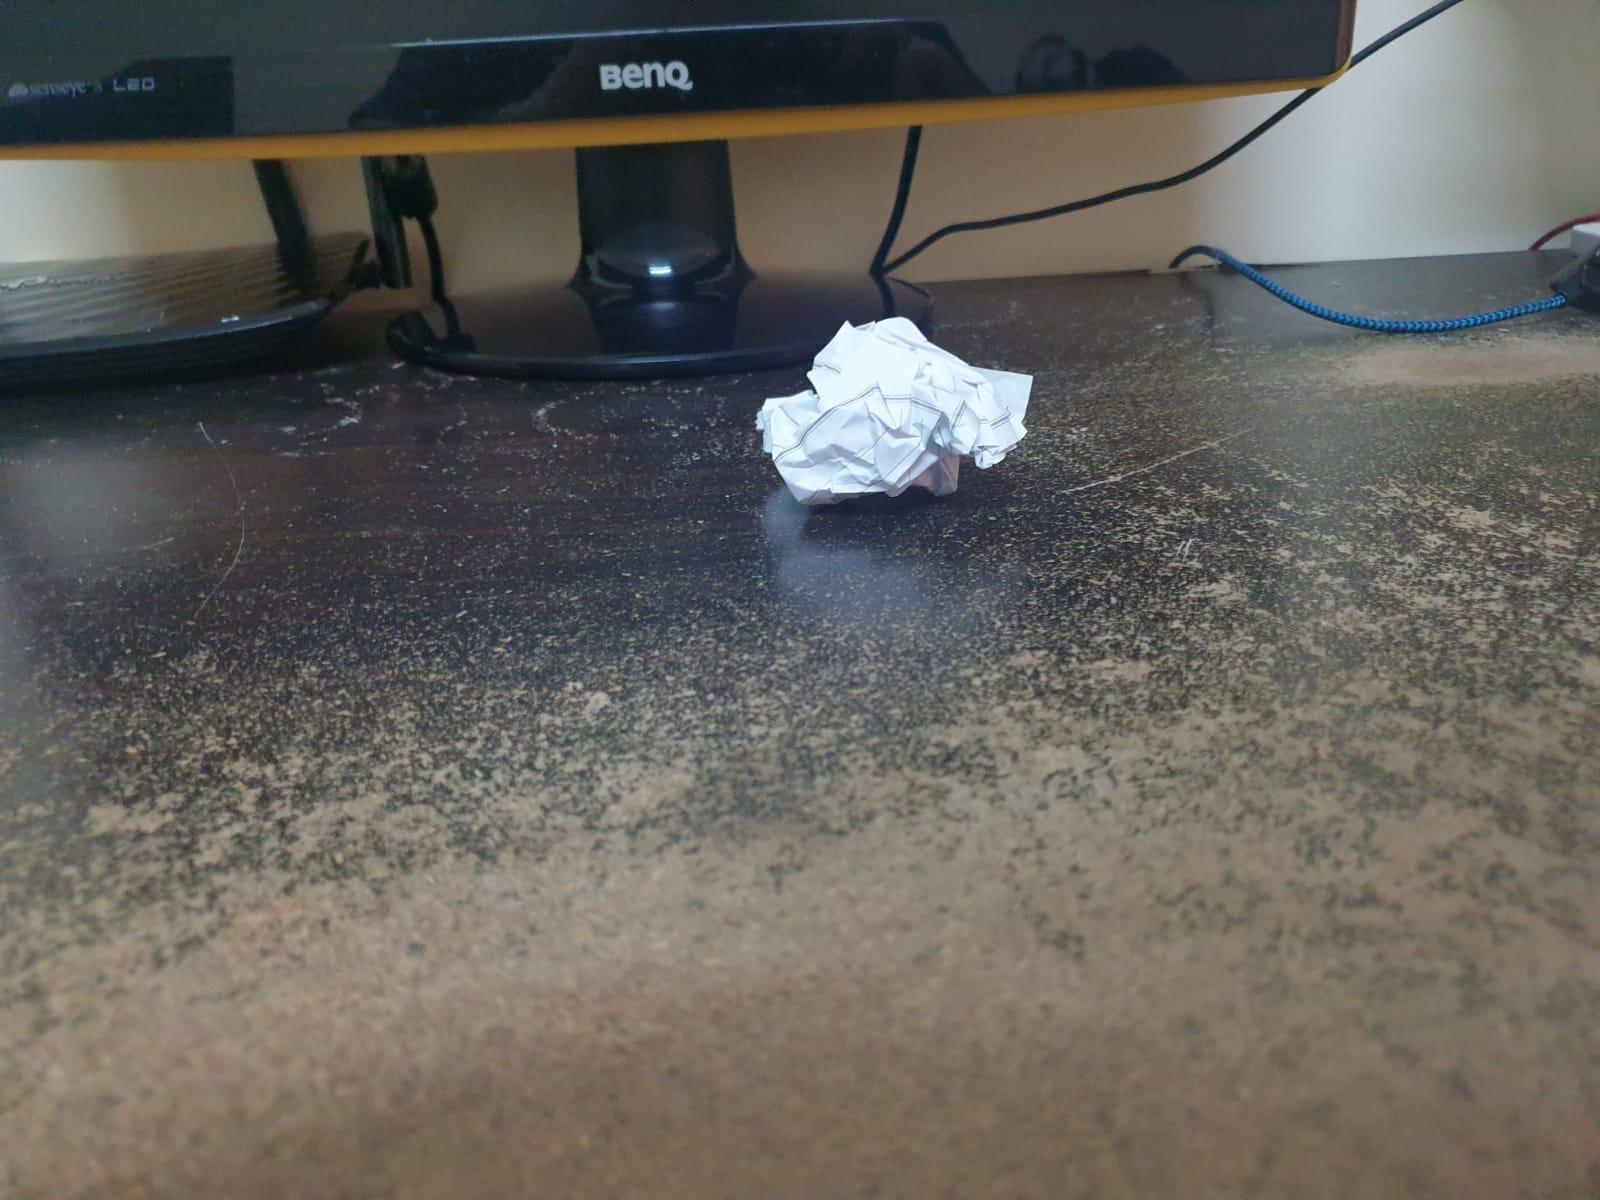Paper: (758, 308, 1046, 522)
